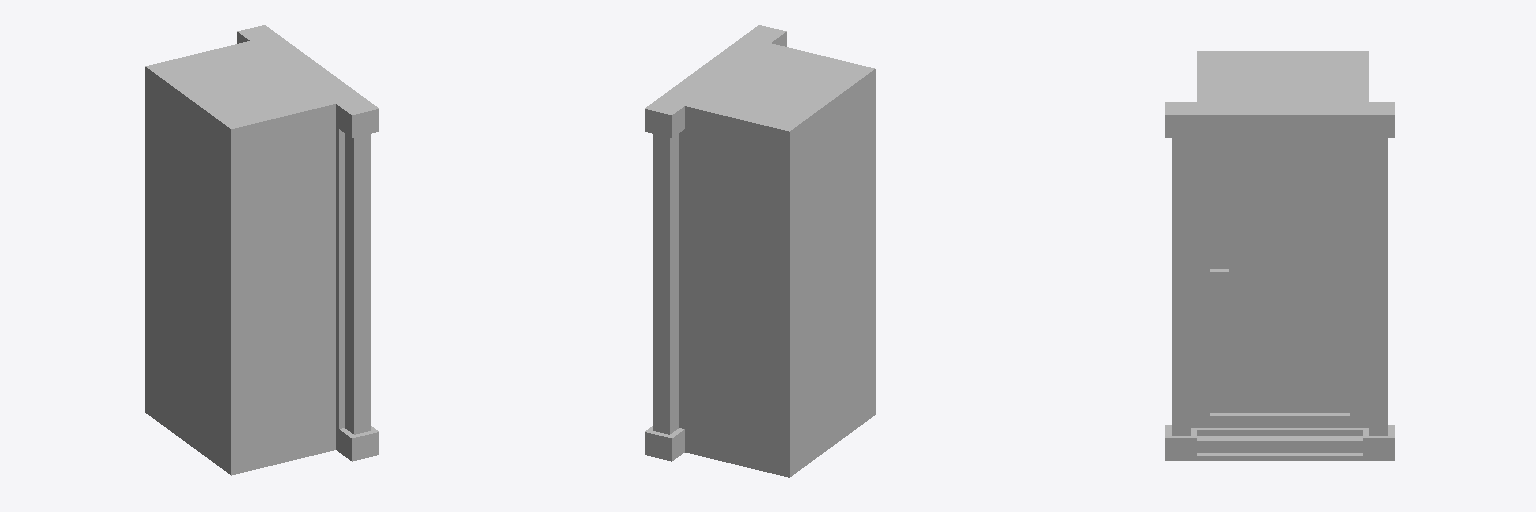
Rendered from Porte.obj.
3 renders of one model, left to right at view 1: azimuth 30°, elevation 25°; view 2: azimuth 150°, elevation 25°; view 3: azimuth 270°, elevation 25°, orthographic.
Parts seen in each view (by area): view 1: object 1; view 2: object 1; view 3: object 1.
Boxes of the visible parts, box(x1,y1,x2,y2) form: object 1: box(145, 25, 378, 475); object 1: box(645, 25, 875, 477); object 1: box(1165, 51, 1394, 460).
Bounding box in the file's own units: 2.4 × 6 × 3.6.